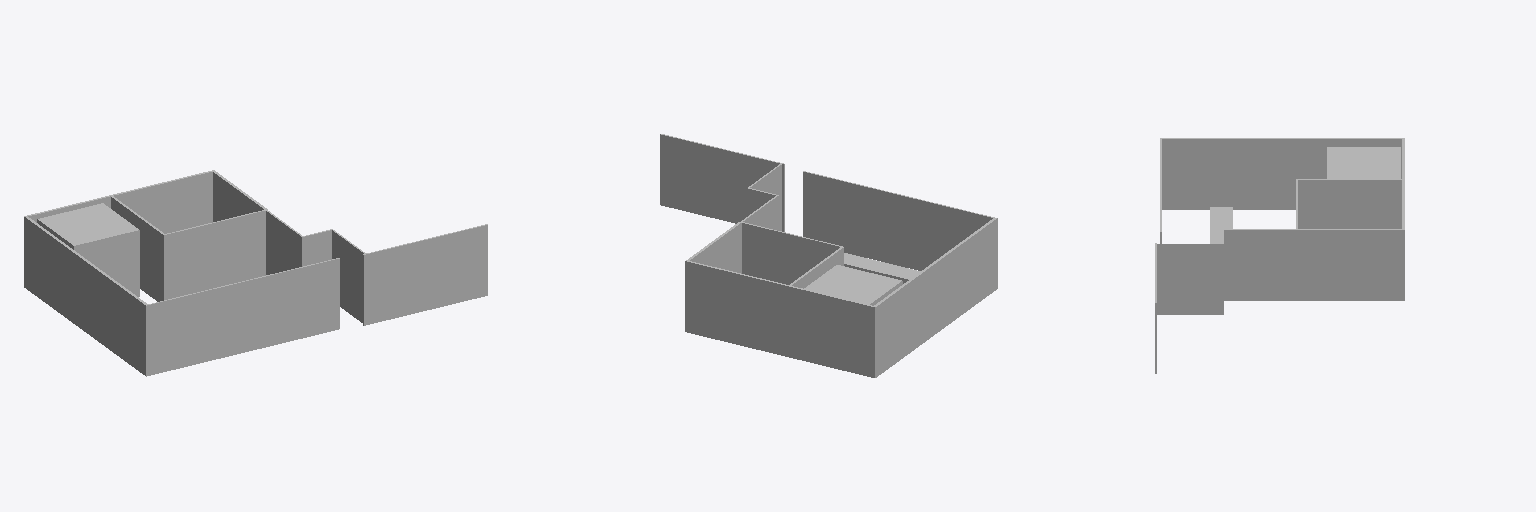
Rendered from P1_All.obj.
3 views of the same model, side by side, from view 1: azimuth 30°, elevation 25°; view 2: azimuth 150°, elevation 25°; view 3: azimuth 270°, elevation 25° (orthographic).
Size of the model in its own units: 2127 by 425 by 1353.